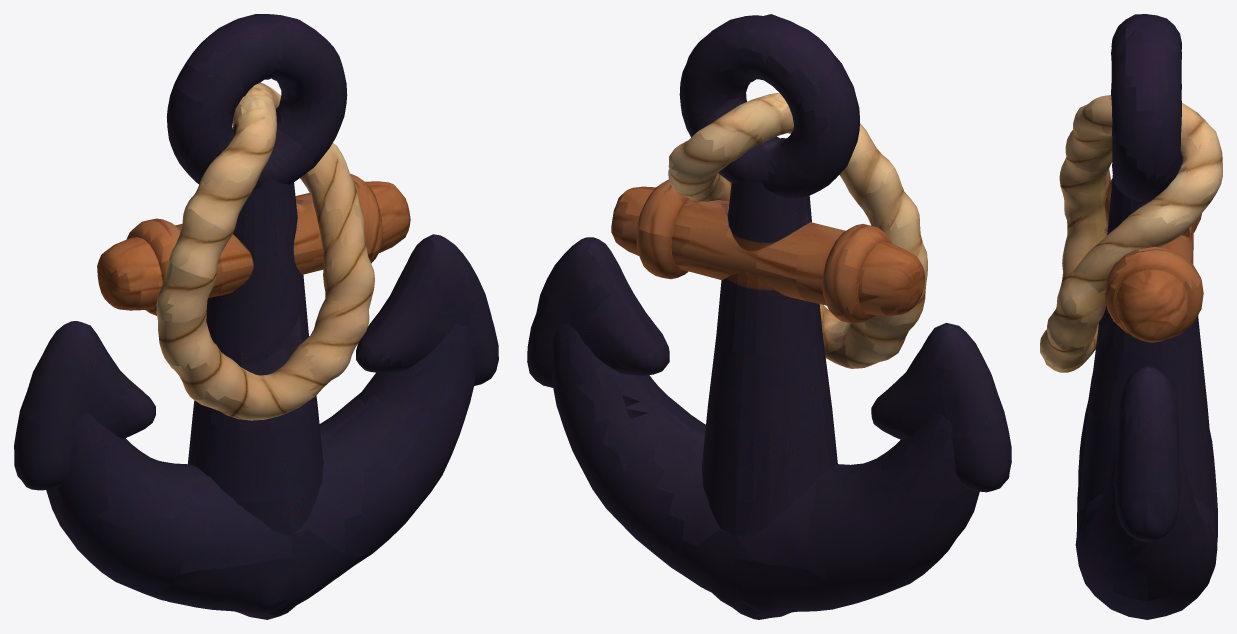
File: la_ancla.glb
The picture shows the model from 3 angles, left to right: view 1: azimuth 30°, elevation 25°; view 2: azimuth 150°, elevation 25°; view 3: azimuth 270°, elevation 25°; orthographic projection.
Size of the model in its own units: 0.8438 by 1 by 0.2832.
1 material, 1 textured.
